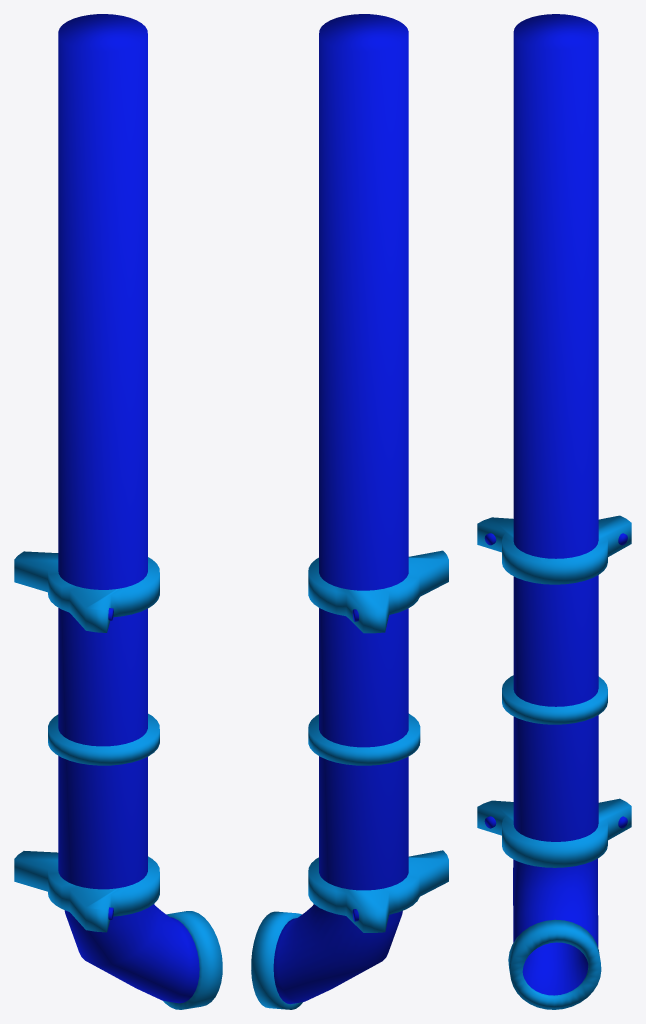
File: tubo_UVS_el de verdad mi reina.fbx
The picture shows the model from 3 angles, left to right: view 1: azimuth 30°, elevation 25°; view 2: azimuth 150°, elevation 25°; view 3: azimuth 270°, elevation 25°; orthographic projection. The views are drawn at different scales.
Visible parts, largest first — view 1: TUBO; view 2: TUBO; view 3: TUBO.
Boxes of the visible parts, <box> form: TUBO: <box>14,14,222,1009</box>; TUBO: <box>251,14,448,1009</box>; TUBO: <box>477,14,631,1009</box>.
Size of the model in its own units: 393 by 2438 by 363.
